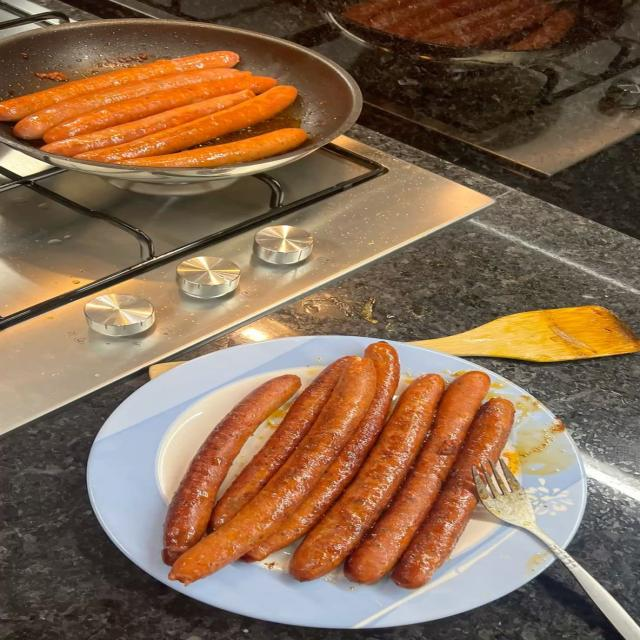sausage: (169, 359, 375, 584), (242, 342, 399, 561), (289, 374, 444, 581), (345, 372, 490, 583), (163, 375, 300, 565), (210, 357, 353, 530), (393, 399, 514, 588), (77, 86, 297, 162), (0, 51, 239, 120), (14, 69, 248, 139), (44, 77, 276, 142), (41, 91, 254, 156), (120, 128, 306, 166), (416, 0, 553, 46), (377, 0, 498, 37), (466, 2, 553, 46), (370, 0, 457, 34), (509, 10, 574, 50), (344, 0, 406, 24), (34, 72, 69, 81)
